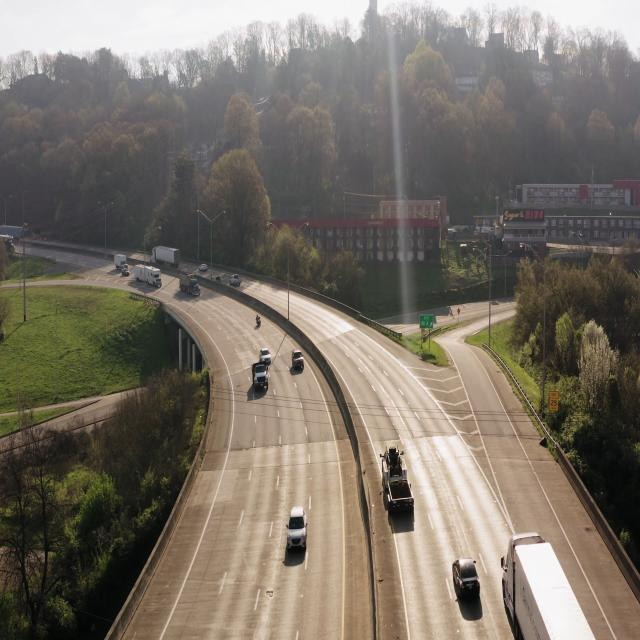Car: (500, 531, 602, 640), (380, 444, 416, 520), (452, 554, 483, 605), (287, 507, 308, 556), (250, 362, 272, 393), (292, 348, 306, 373)
